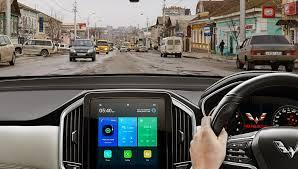Pothole: (167, 57, 217, 75), (144, 55, 164, 71), (54, 61, 73, 74), (99, 53, 120, 64)
